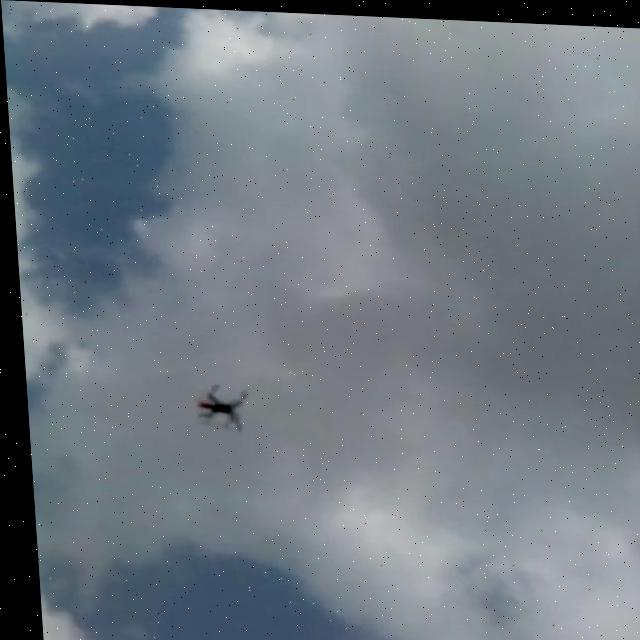drone: (184, 377, 249, 432)
